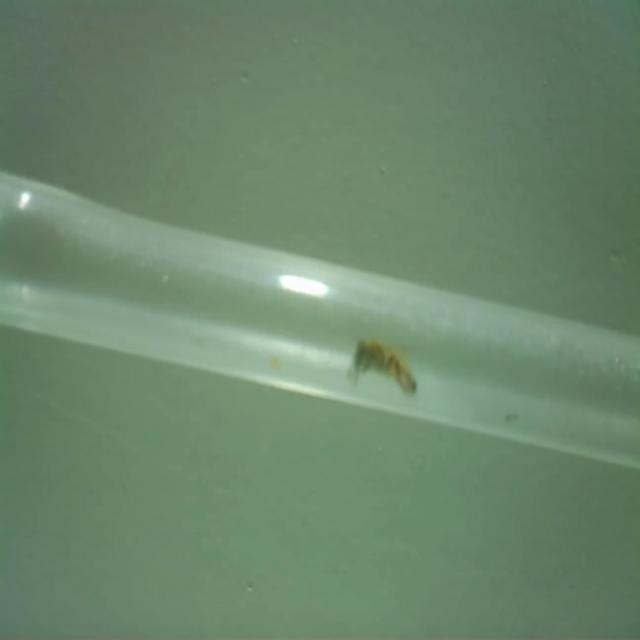Honeybee-Detection: (350, 340, 416, 394), (352, 341, 416, 394)
